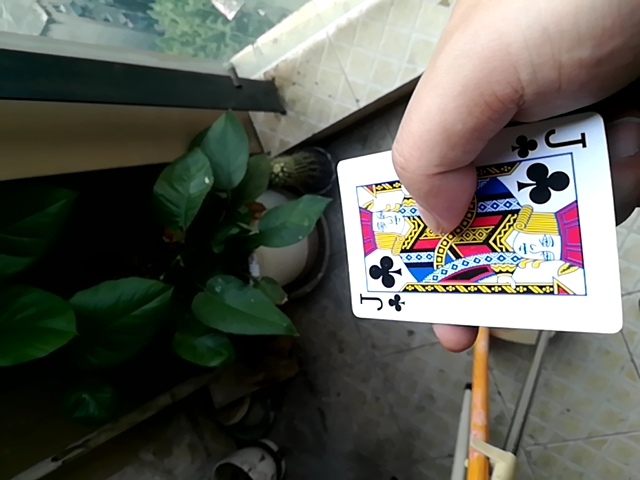mh j: (326, 125, 625, 331)
